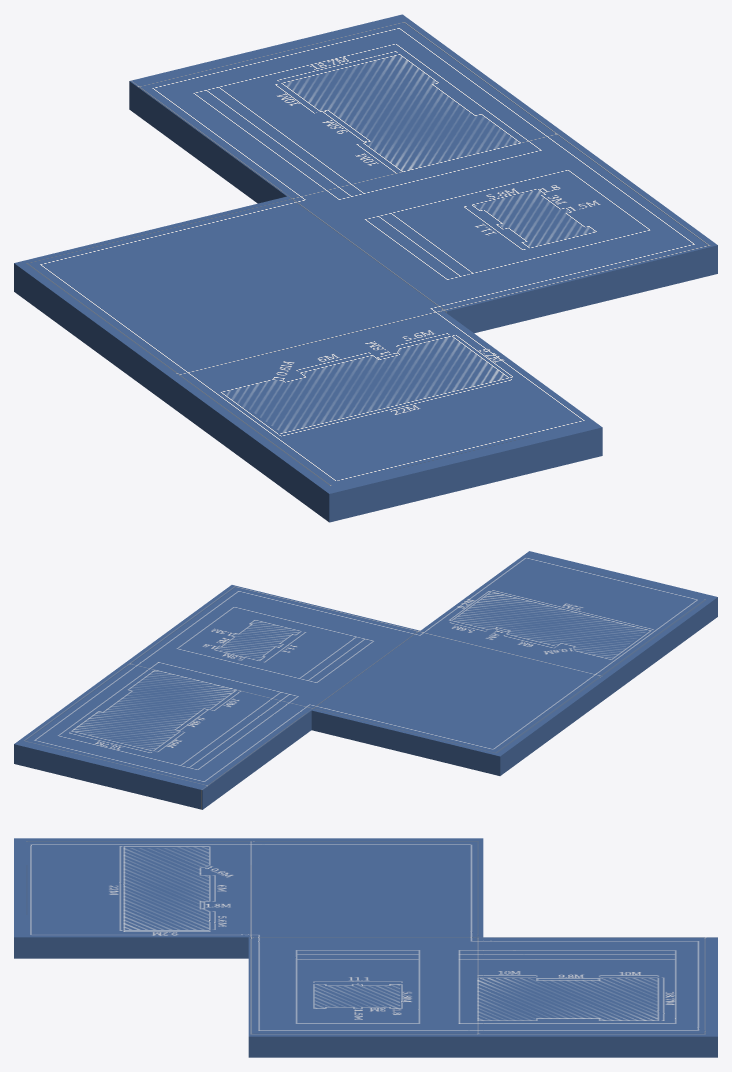
File: loading_block_5.fbx
3 renders of one model, top to bottom at view 1: azimuth 30°, elevation 25°; view 2: azimuth 150°, elevation 25°; view 3: azimuth 270°, elevation 25°, orthographic. The views are drawn at different scales.
Parts seen in each view (by area): view 1: block_5; view 2: block_5; view 3: block_5.
Boxes of the visible parts, left/top/right/bottom form: block_5: left=14, top=14, right=717, bottom=522; block_5: left=14, top=551, right=717, bottom=809; block_5: left=14, top=838, right=717, bottom=1057.
Size of the model in its own units: 200 by 10 by 300.
